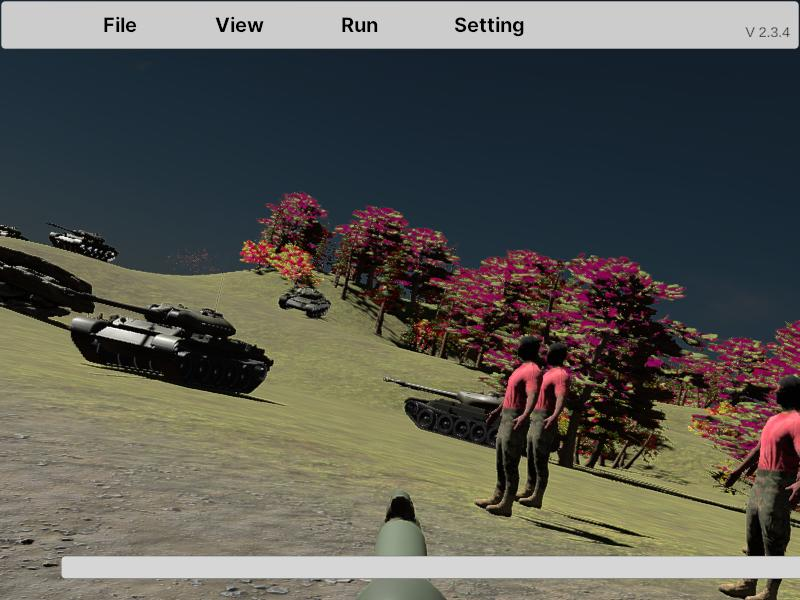Human: (723, 373, 800, 600), (477, 337, 543, 517), (514, 340, 569, 510)
Tank: (54, 286, 275, 397), (382, 375, 558, 452), (46, 220, 119, 264), (278, 285, 331, 319)
